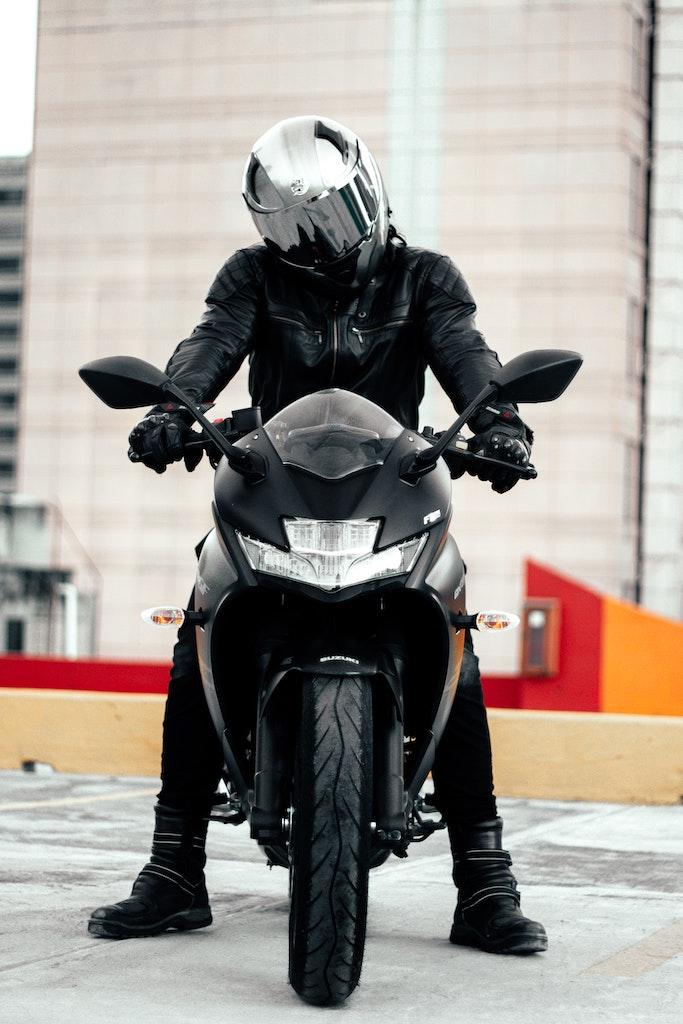helmet: (240, 113, 395, 301)
